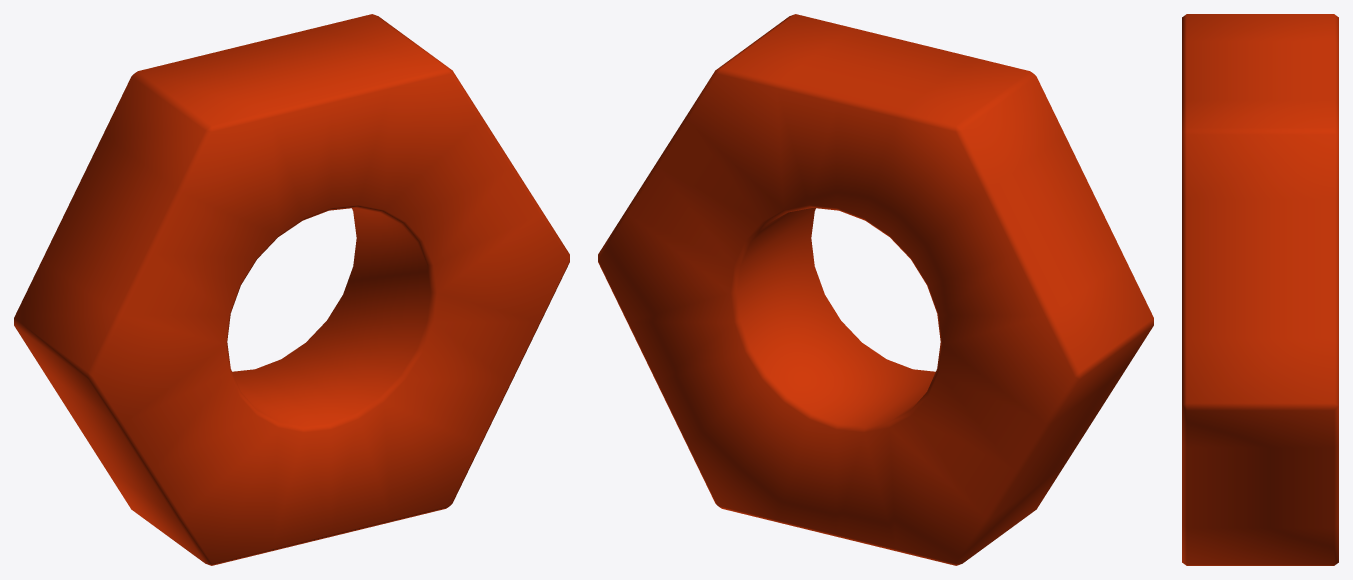
File: regular_nut.obj
The picture shows the model from 3 angles, left to right: view 1: azimuth 30°, elevation 25°; view 2: azimuth 150°, elevation 25°; view 3: azimuth 270°, elevation 25°; orthographic projection.
Parts seen in each view (by area): view 1: Mesh_Circle.005; view 2: Mesh_Circle.005; view 3: Mesh_Circle.005.
Boxes of the visible parts, box(x1,y1,x2,y2) form: Mesh_Circle.005: box(14, 14, 569, 565); Mesh_Circle.005: box(598, 14, 1153, 565); Mesh_Circle.005: box(1182, 14, 1338, 565).
Bounding box in the file's own units: 0.2297 × 0.2007 × 0.0651.
